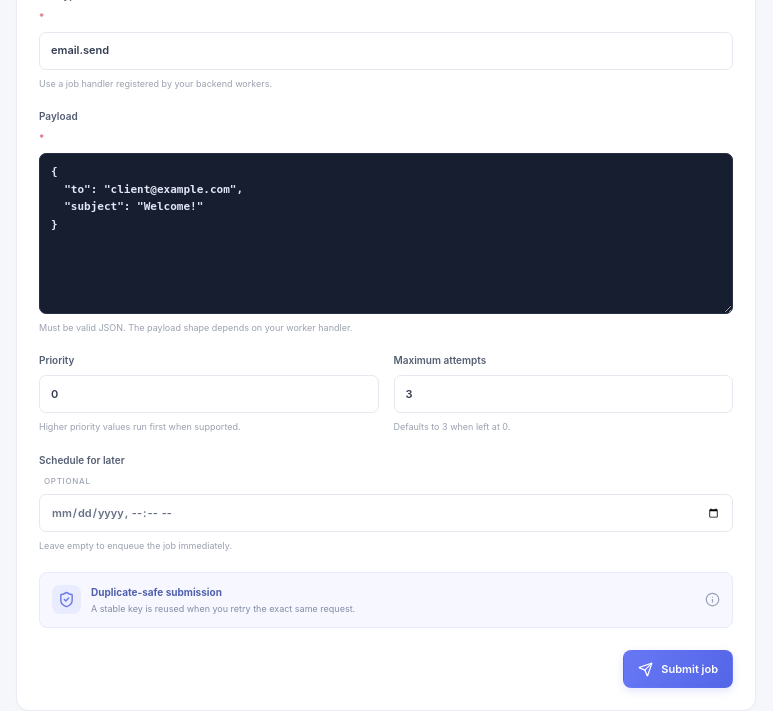
NewJobPage submission retries › shows a success confirmation instead of opening admin job details for a member
(page scrolled)
What coordinates should you click on to do the following:
click the button "Submit job"
I would click on:
 (678, 669)
Its box is top-left (623, 650), bottom-right (733, 688).
(page scrolled)
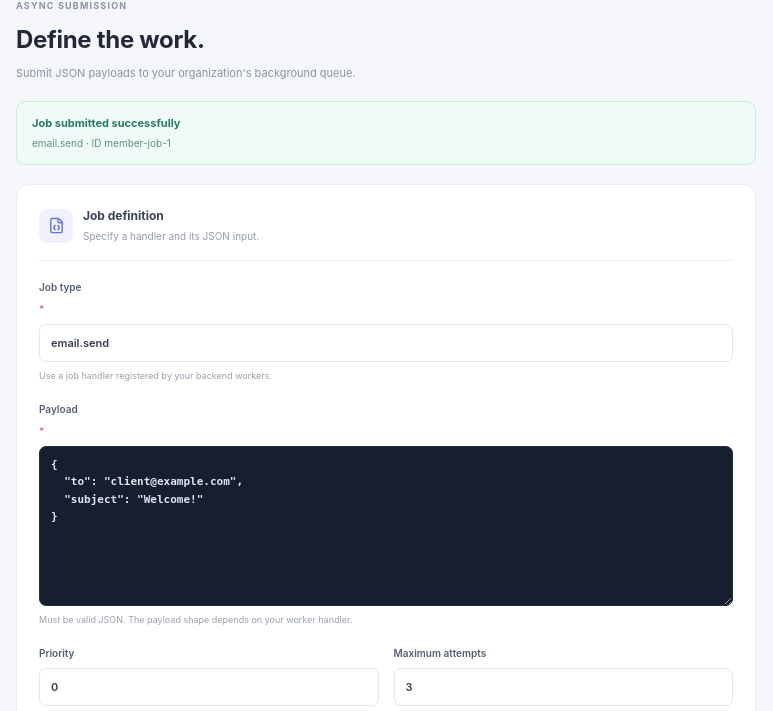
Check: the message shows "Job submitted successfully", box top-left (32, 116), bottom-right (180, 130)
